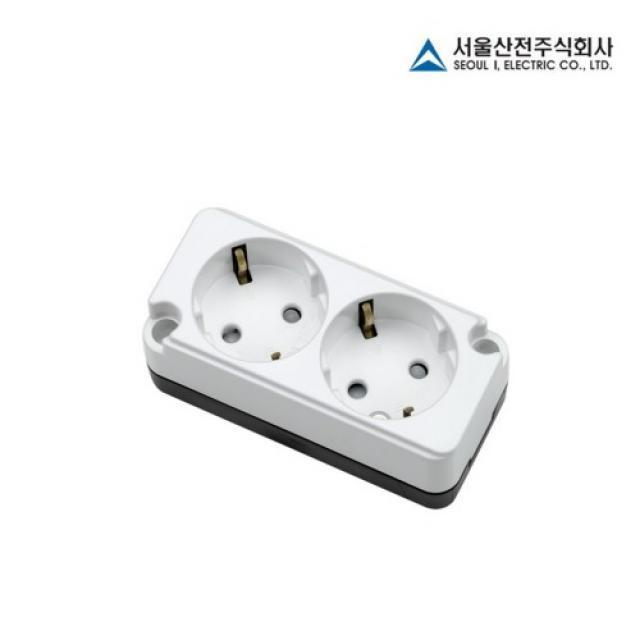typeb: (84, 163, 552, 532)
